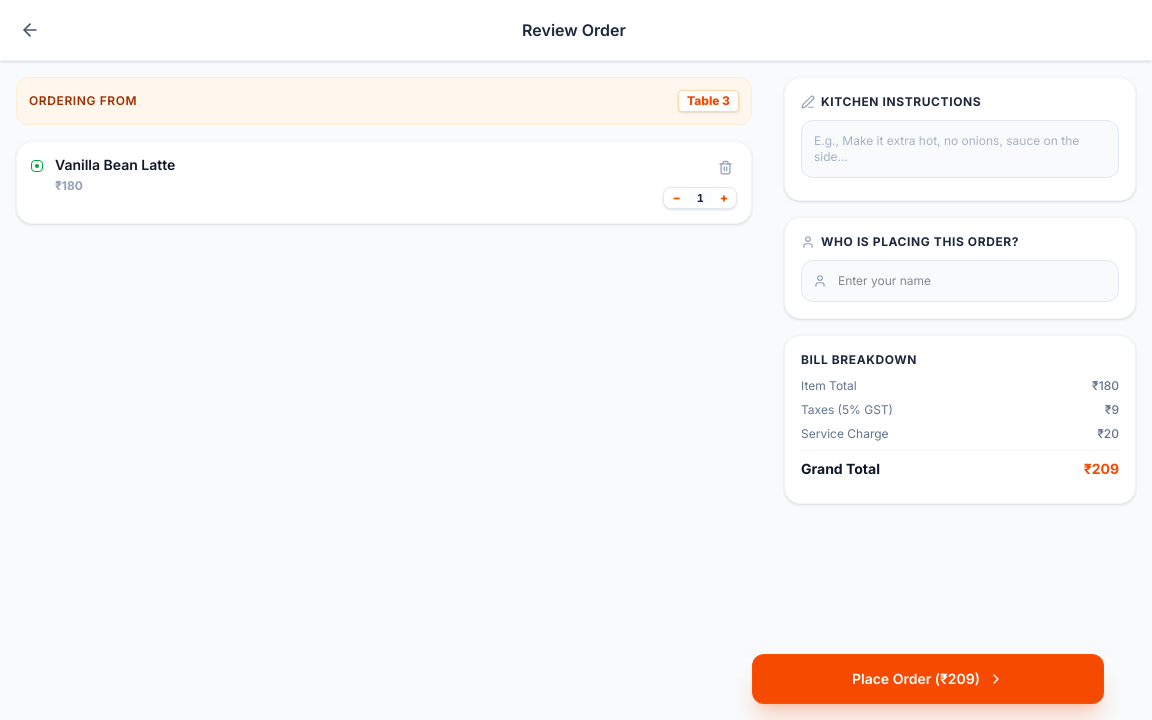
Test case: CartPage Component & Form Validations › requires guest name to place an order
// Wait for cart to appear
Click the button "Place Order (₹209)".
click(928, 679)  # box [752, 654, 1104, 704]
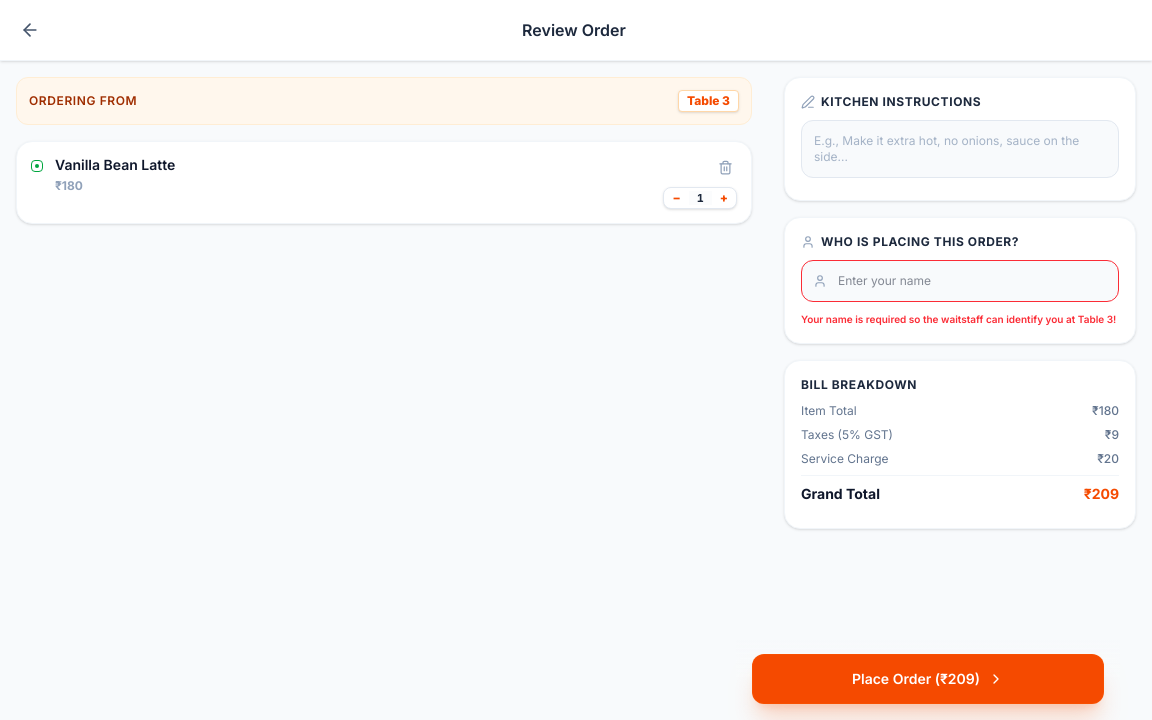
Now the text "Your name is required so the waitstaff can identify you" is shown, box [801, 313, 1107, 325]
